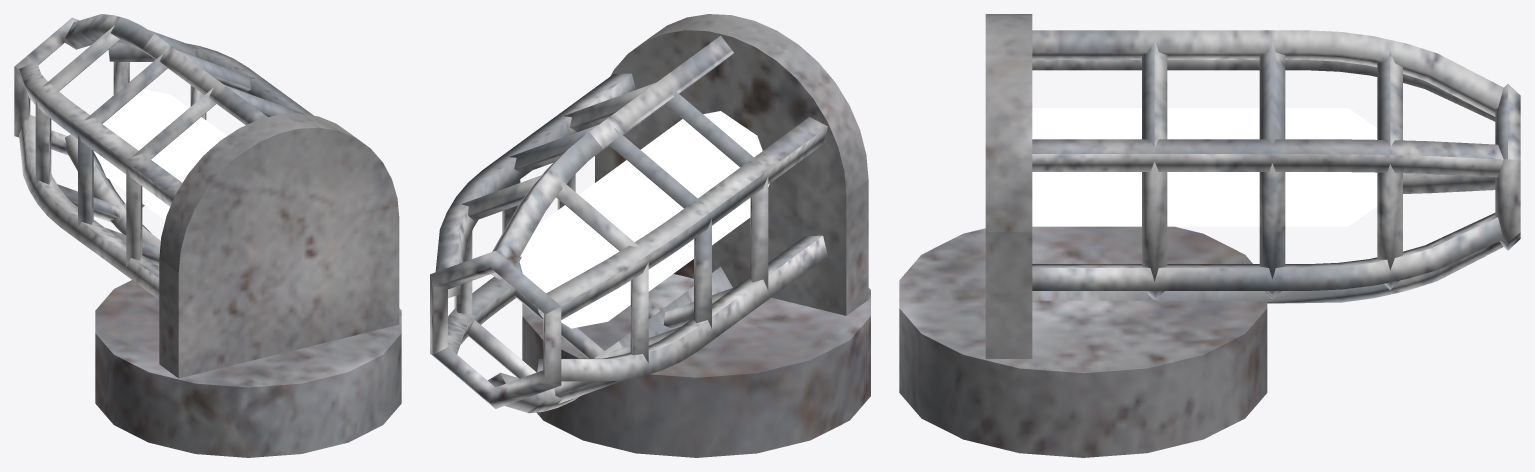
Rendered from IndustrialLamp_Wall_ALL.FBX.
The picture shows the model from 3 angles, left to right: view 1: azimuth 30°, elevation 25°; view 2: azimuth 150°, elevation 25°; view 3: azimuth 270°, elevation 25°; orthographic projection. The views are drawn at different scales.
Parts seen in each view (by area): view 1: IndustrialLamp_Wall_LOD0, Source; view 2: IndustrialLamp_Wall_LOD0, Source; view 3: IndustrialLamp_Wall_LOD0, Source.
Part boxes in pixels (x1,y1,x2,y2): IndustrialLamp_Wall_LOD0: [14, 14, 401, 457]; Source: [95, 89, 226, 220]; IndustrialLamp_Wall_LOD0: [430, 14, 870, 457]; Source: [519, 111, 769, 328]; IndustrialLamp_Wall_LOD0: [899, 14, 1520, 457]; Source: [1032, 108, 1377, 226].
Size of what is drawn, in the model's own units: 237 by 245 by 394.
